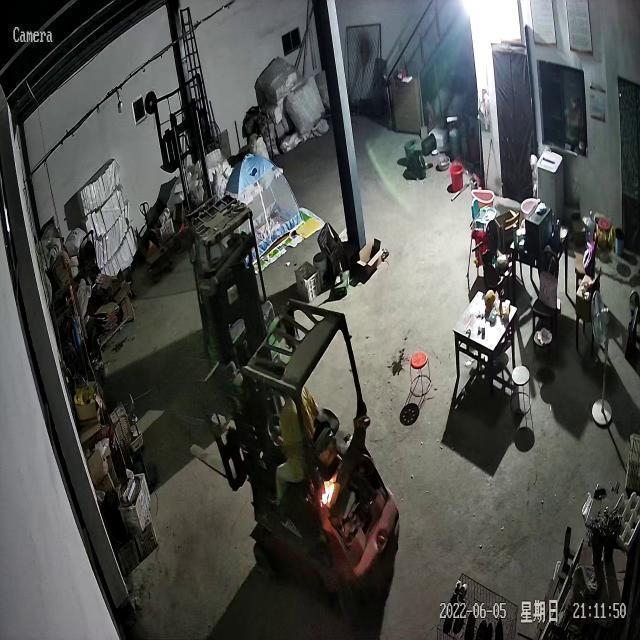forklift: (235, 302, 399, 592)
